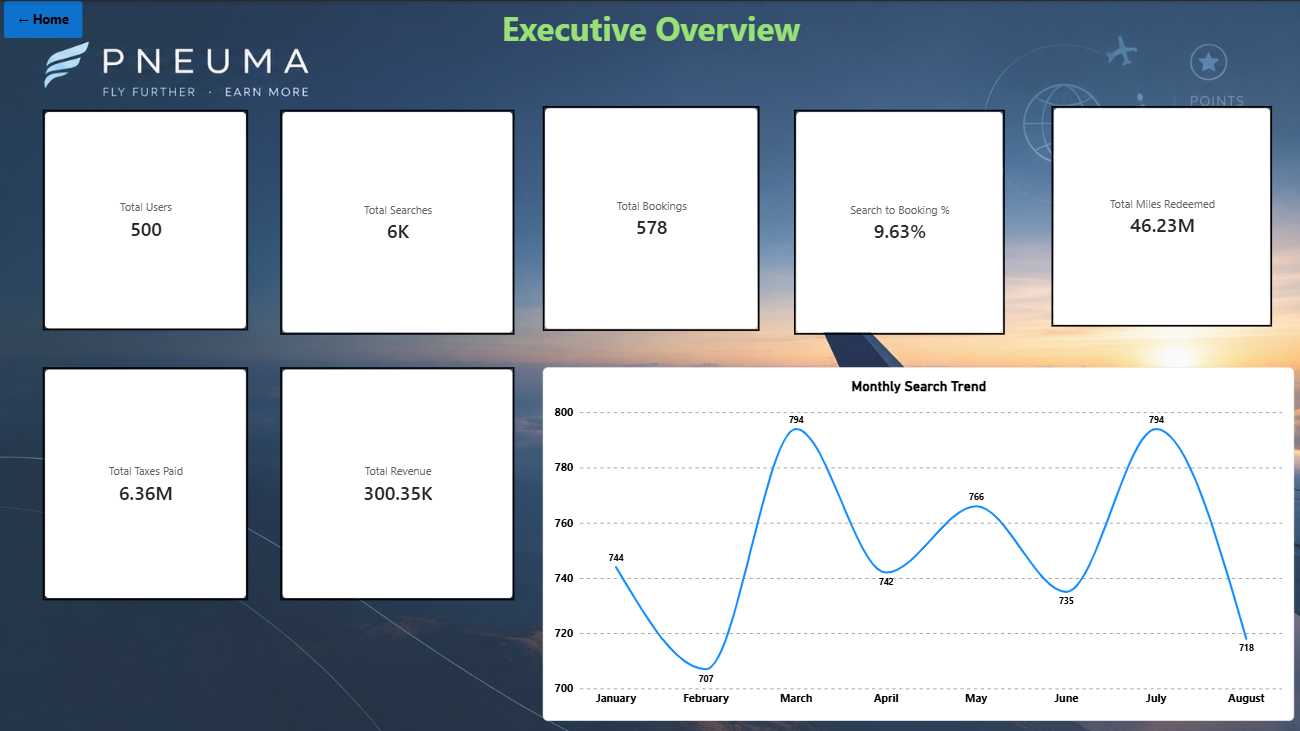

The page's visual inventory and layout, read from the dashboard file:
{"tool":"powerbi","page":{"name":"Executive Overview 1","canvas":[1920,1080],"ordinal":1},"visuals":[{"type":"cardVisual","fields":{"Data":["users.Total Users"]},"box":[64.4,160.1,302.6,325.2],"z":0},{"type":"cardVisual","fields":{"Data":["searches.Total Searches"]},"box":[414.1,160.1,345.8,331.4],"z":1000},{"type":"cardVisual","fields":{"Data":["bookings.Total Taxes Paid"]},"box":[64.4,539.3,302.6,343.7],"z":2000},{"type":"cardVisual","fields":{"Data":["subscriptions.Total Revenue"]},"box":[414.1,539.3,345.8,343.7],"z":3000},{"type":"cardVisual","fields":{"Data":["bookings.Total Miles Redeemed"]},"box":[1549.7,154.6,325.2,325.2],"z":4000},{"type":"cardVisual","fields":{"Data":["bookings.Total Bookings"]},"box":[800.6,154.6,319,331.4],"z":5000},{"type":"cardVisual","fields":{"Data":["bookings.Search to Booking %"]},"box":[1170.6,160.1,310.8,331.4],"z":6000},{"type":"lineChart","title":"Monthly Search Trend","fields":{"Category":["searches.search_date.Variation.Date Hierarchy.Month","searches.search_date.Variation.Date Hierarchy.Day"],"Y":["CountNonNull(searches.search_id)"]},"box":[800.6,539.3,1106.1,520.9],"z":7000},{"type":"textbox","box":[173,0,1573.6,95.7],"z":8000},{"type":"actionButton","box":[7.4,0,116,55],"z":8001}]}

Visuals, with their boxes in screenshot pixels (x1, y1, x2, y2), scaled from the page's 1920x1080 canvas onto the 1300x731 screenshot:
cardVisual - users.Total Users: 44, 108, 248, 328
cardVisual - searches.Total Searches: 280, 108, 515, 333
cardVisual - bookings.Total Taxes Paid: 44, 365, 248, 598
cardVisual - subscriptions.Total Revenue: 280, 365, 515, 598
cardVisual - bookings.Total Miles Redeemed: 1049, 105, 1269, 325
cardVisual - bookings.Total Bookings: 542, 105, 758, 329
cardVisual - bookings.Search to Booking %: 793, 108, 1003, 333
"Monthly Search Trend" lineChart: 542, 365, 1291, 718
textbox: 117, 0, 1183, 65
actionButton: 5, 0, 84, 37
